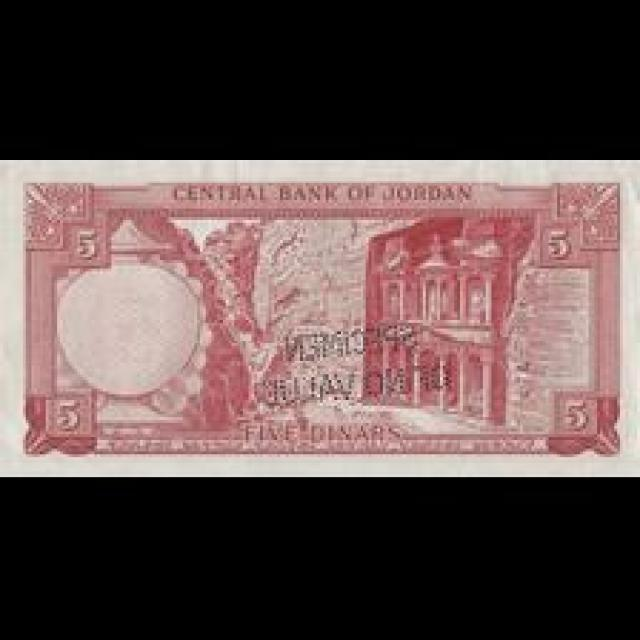banknote: (3, 169, 637, 460)
